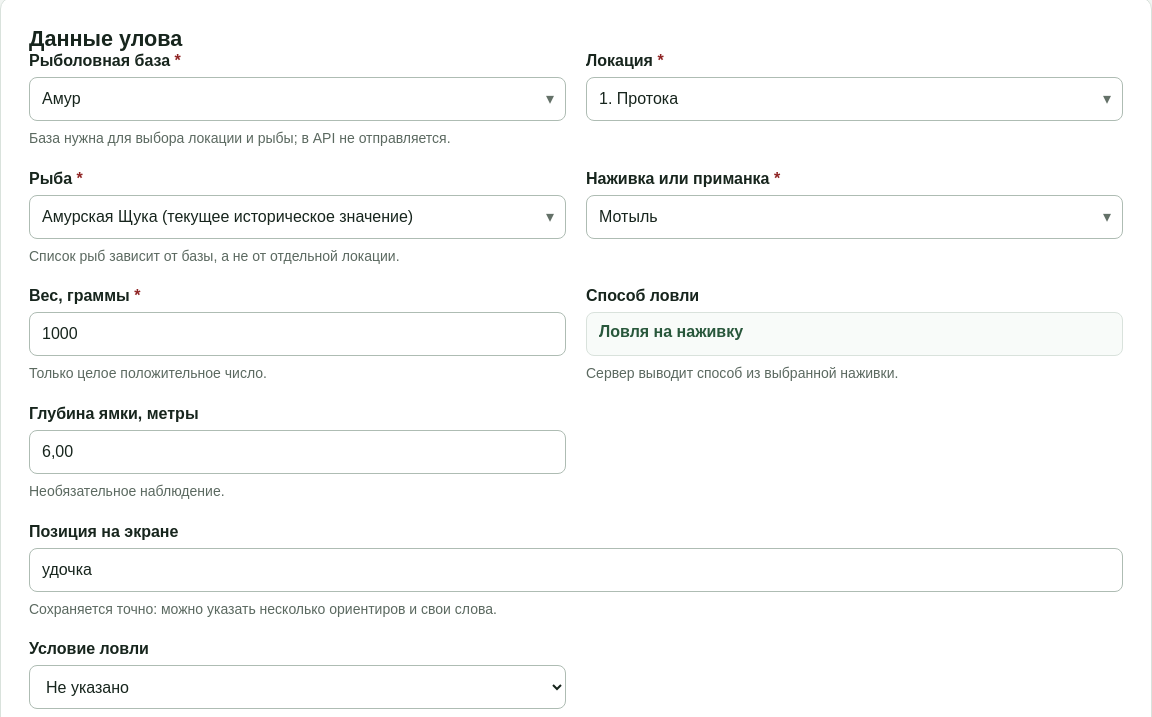
it: CatchReportForm › requires an active Base Fish when Location changes from historical references
Click the dropdown labelled "Локация *": (854, 99) [586,77,1123,121]
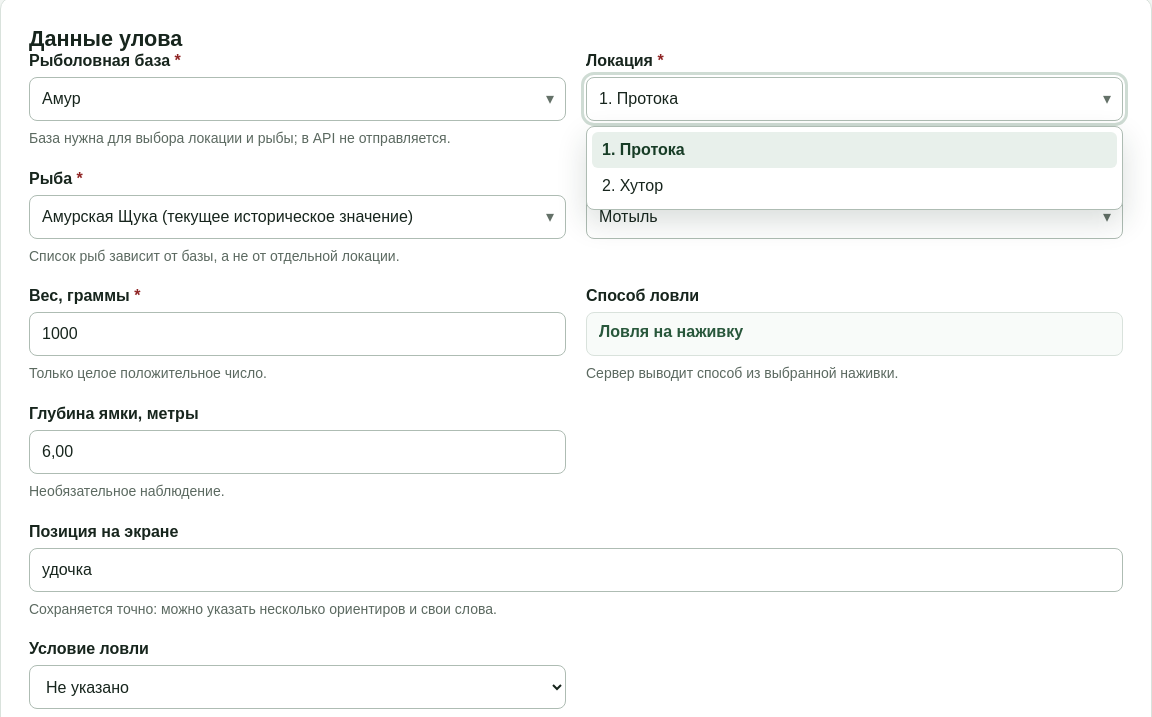
Click the option "2. Хутор": (633, 186) [602,177,663,194]
(page scrolled)
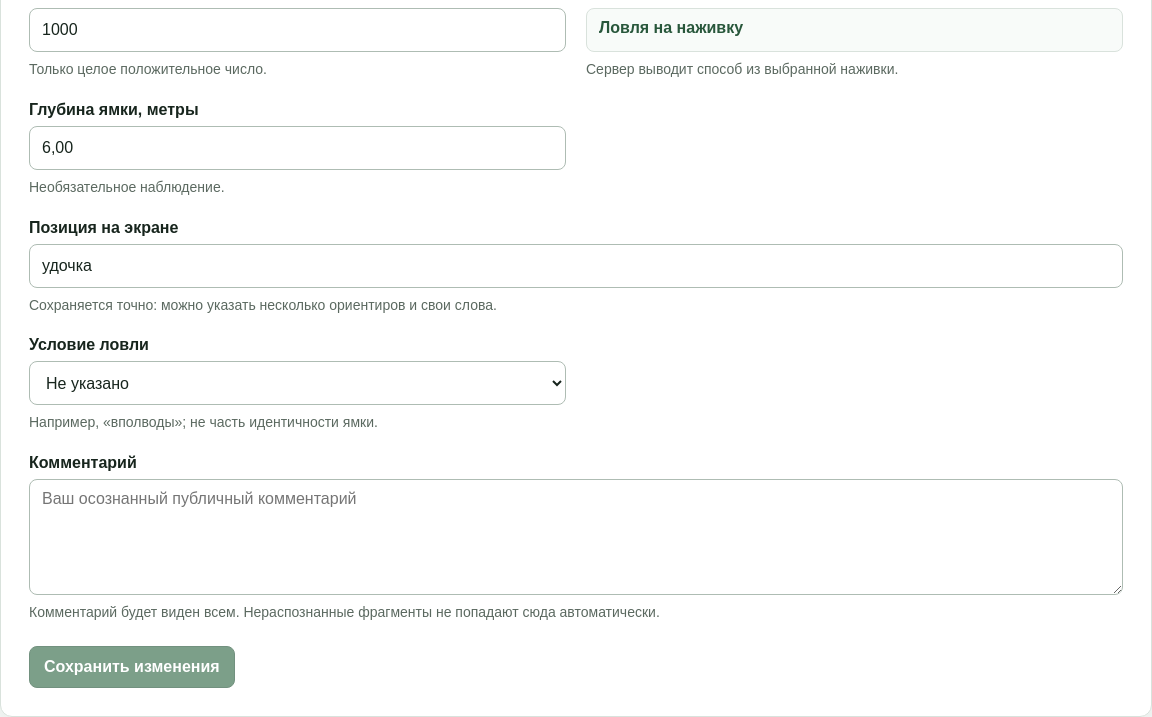
Result: the button "Сохранить изменения" is disabled at [29,646,235,688]
